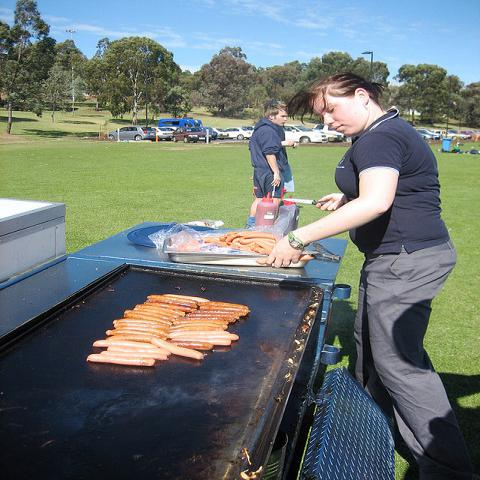bus: (158, 117, 218, 140)
car: (284, 125, 328, 144), (109, 126, 156, 141), (173, 128, 211, 143), (431, 130, 472, 139), (226, 128, 255, 139), (415, 129, 443, 140), (153, 127, 175, 140), (211, 126, 227, 140), (459, 130, 479, 141)
truck: (158, 117, 218, 140), (313, 125, 345, 141)
